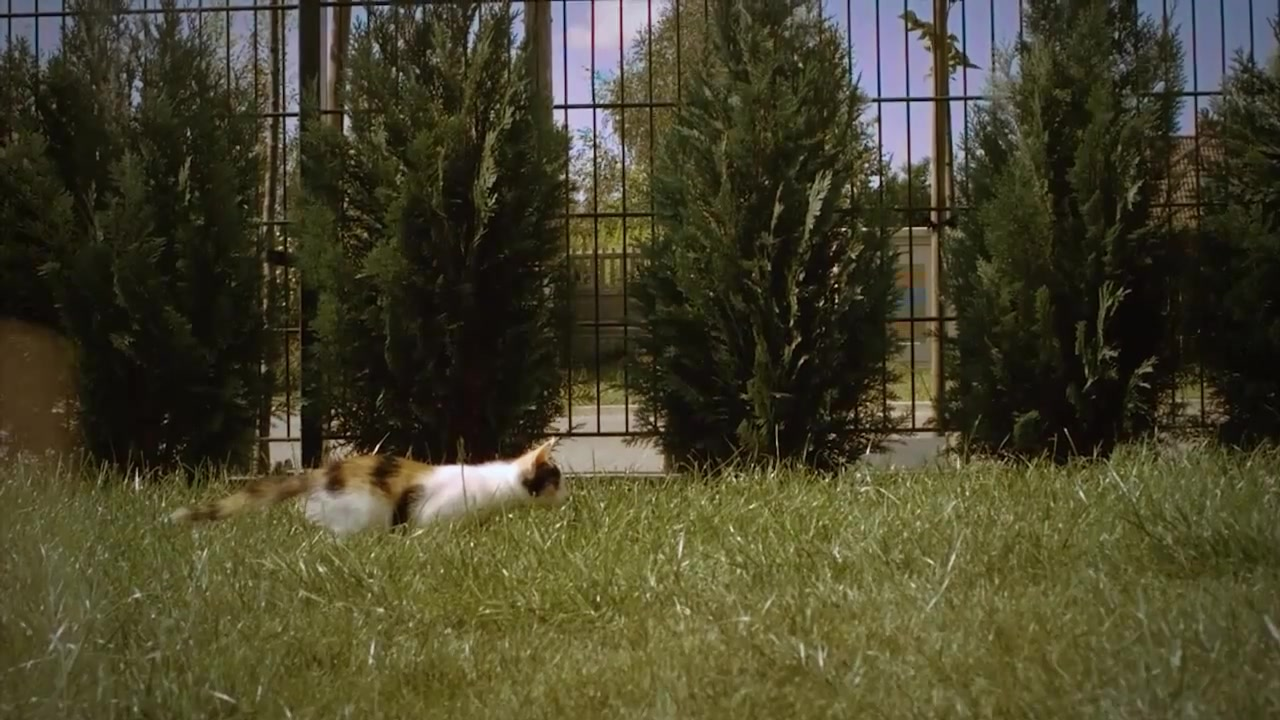cat: (166, 431, 578, 538)
